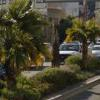Palm tree: (2, 0, 46, 79)
